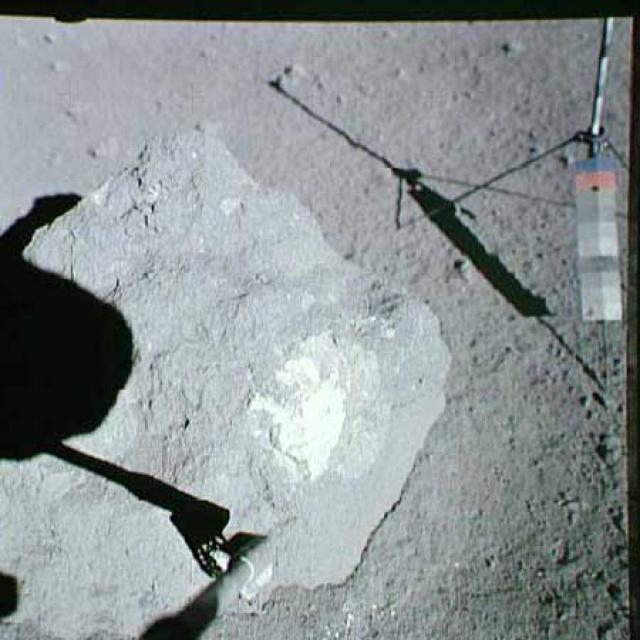artifact: (391, 17, 639, 459)
rock: (0, 118, 458, 639)
